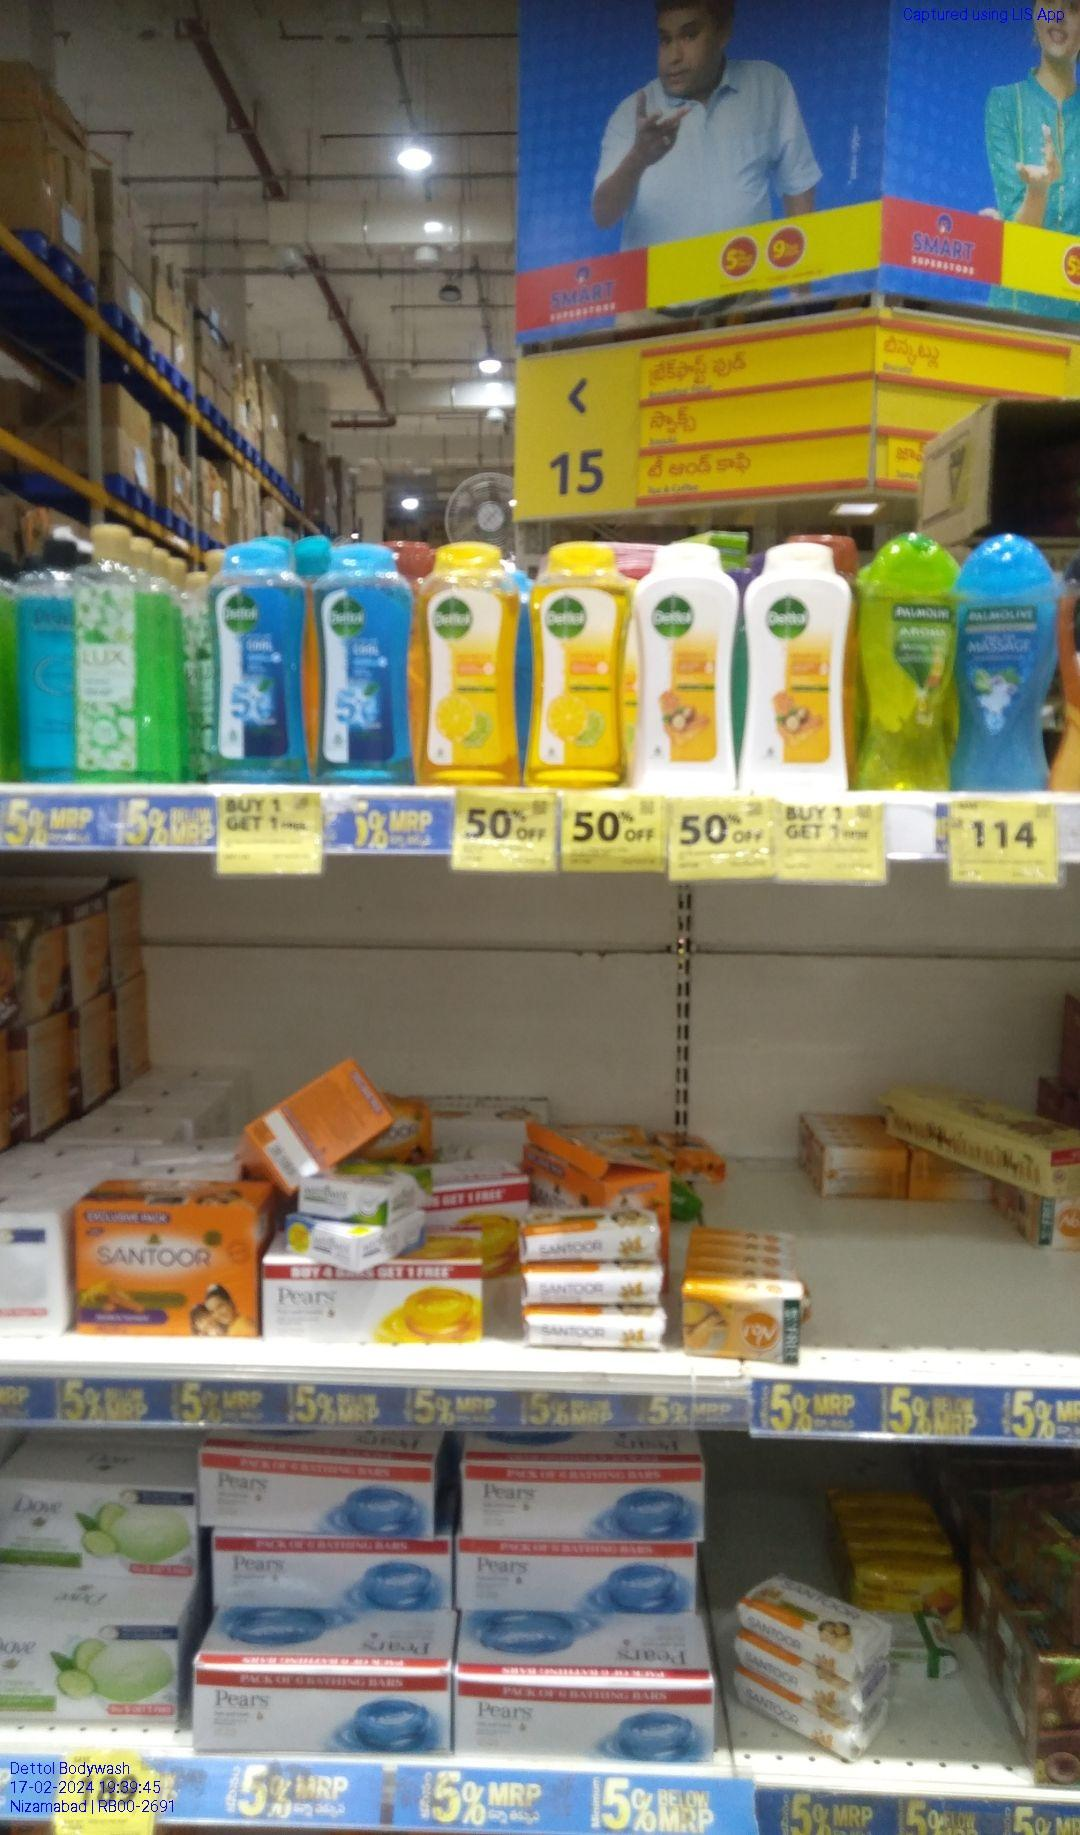Dettol_Bodywash_Cool: (315, 540, 413, 780), (207, 546, 302, 779)
Dettol_Bodywash_Refresh: (419, 540, 523, 786), (528, 540, 625, 794)
Palmolive_Aroma_Moments_Feel_The_Massage_Shower_Gel_250ML: (955, 524, 1050, 795)
Palmolive_Aroma_Morning_Tonic_Shower_Gel_250ML: (851, 529, 950, 793)
